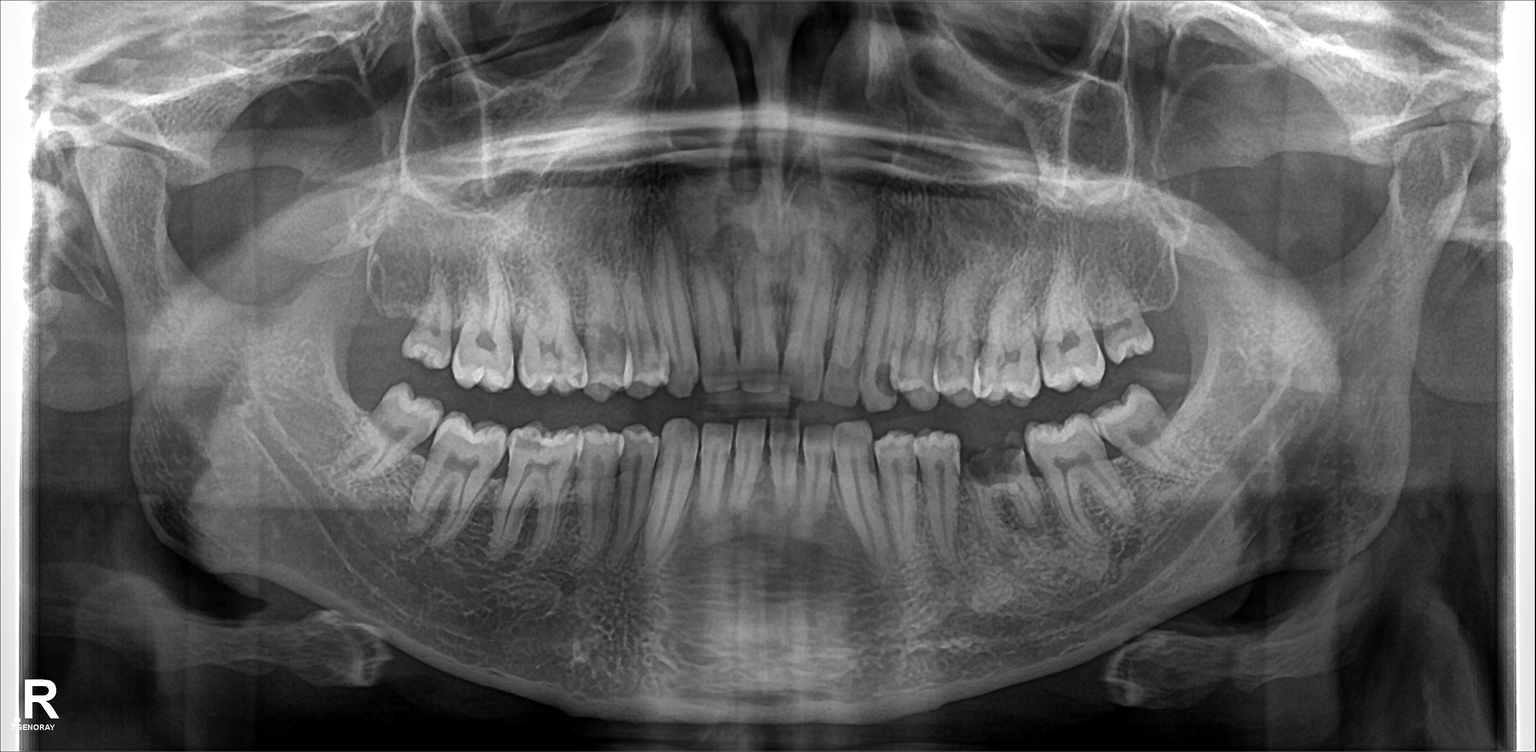Dental Caries: (965, 439, 1025, 492), (516, 439, 557, 475)
Impacted Third Molar: (1100, 389, 1193, 475)
Missing Tooth: (367, 255, 414, 352), (1142, 248, 1186, 341)
Retained Root: (957, 436, 1040, 548)
